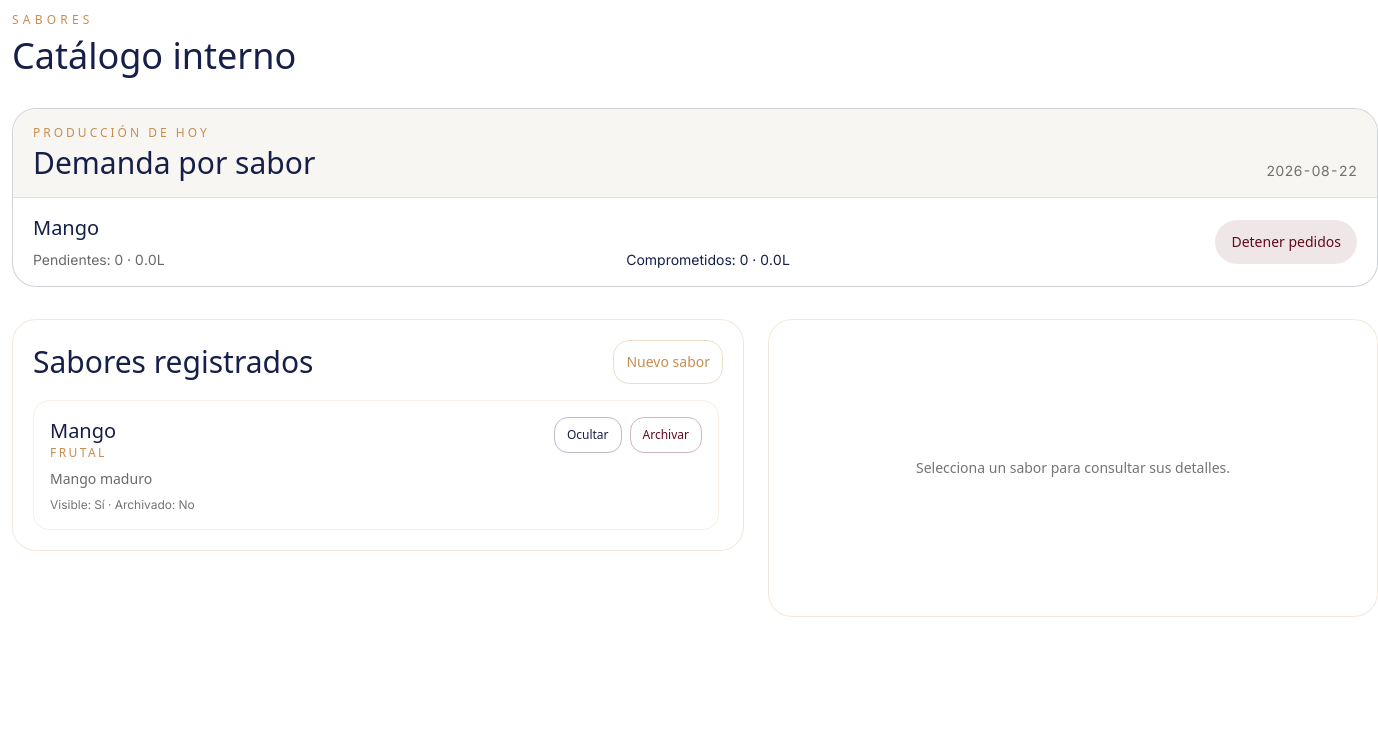
it: AdminFlavorsPage production demand › shows flavor details before exposing editable fields
Click the button "Mango Frutal" at (83, 430), box [50,417,542,461]
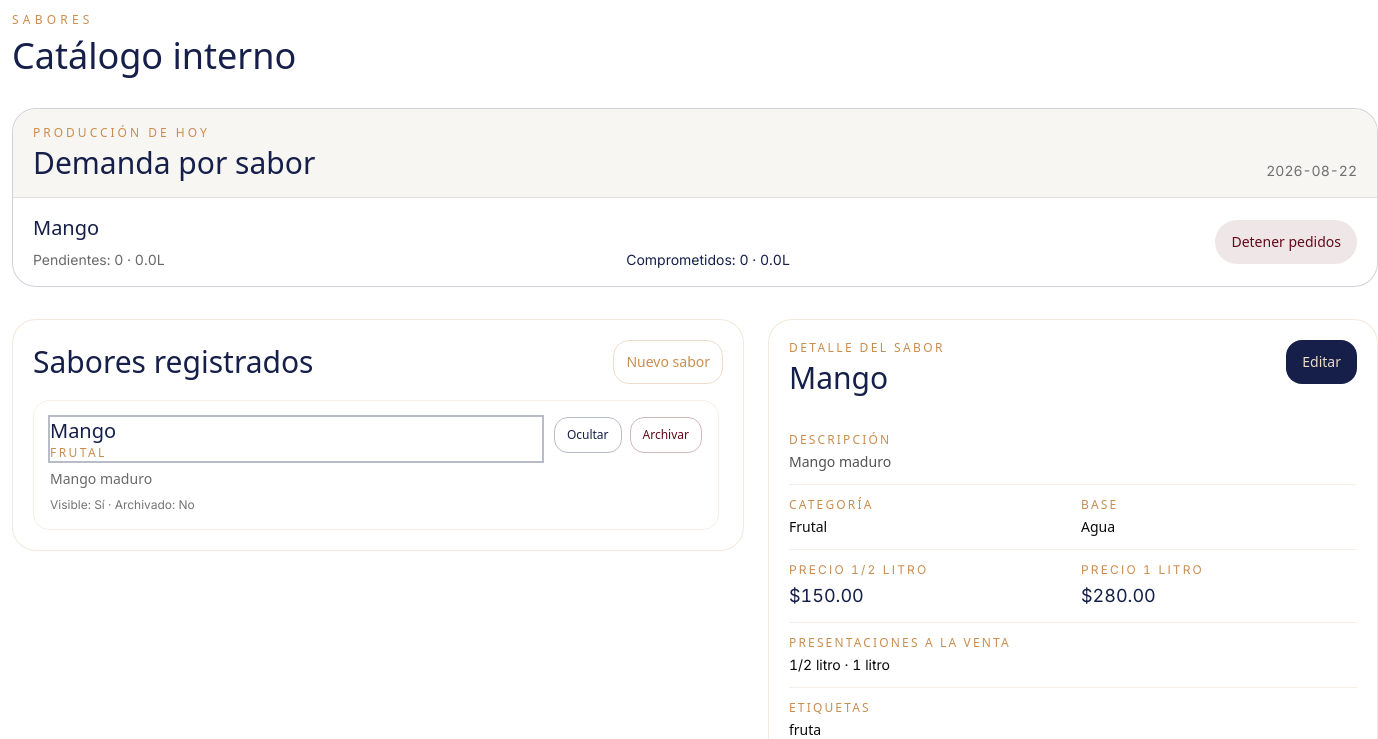
Check: the text "Detalle del sabor" is shown, box [789,340,945,356]
Check: the text "$150.00" is shown, box [789,585,864,606]
Check: the text "$280.00" is shown, box [1081,585,1156,606]
Click the button "Editar" at (1322, 362), box [1286,340,1357,384]
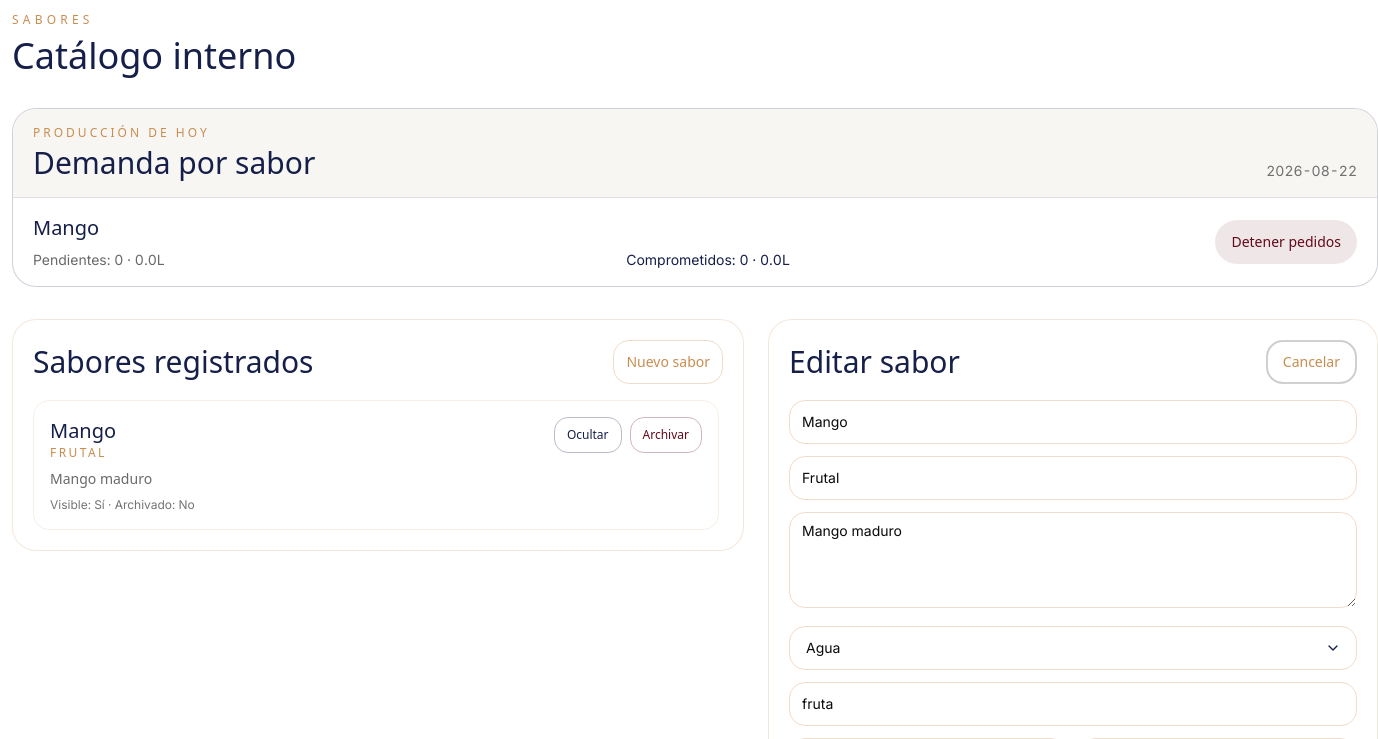
Check: the field named "Nombre del sabor" holds "Mango", box [789,400,1357,444]
